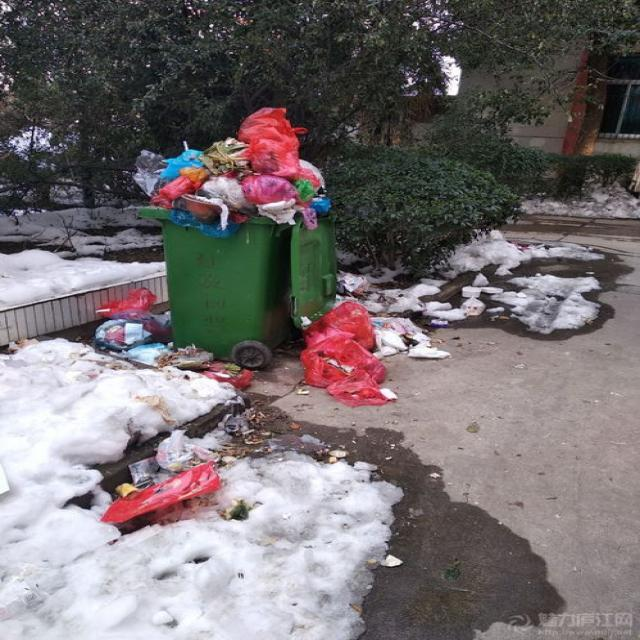garbage: (92, 286, 395, 522)
overflow: (136, 105, 335, 358)
